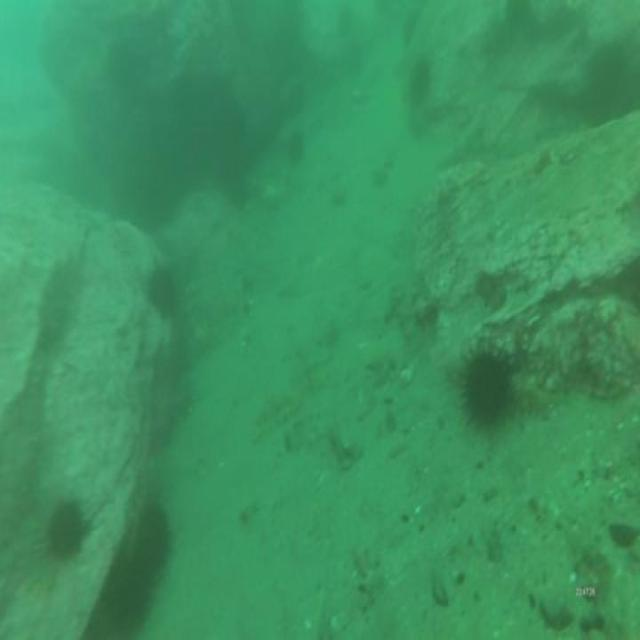echinus: (457, 338, 513, 435), (583, 41, 640, 127), (40, 493, 88, 571), (113, 558, 155, 634), (134, 499, 174, 574), (146, 261, 180, 319), (405, 56, 432, 108), (285, 123, 306, 169)
holothurian: (34, 255, 77, 357), (245, 386, 305, 452), (513, 373, 552, 417)
